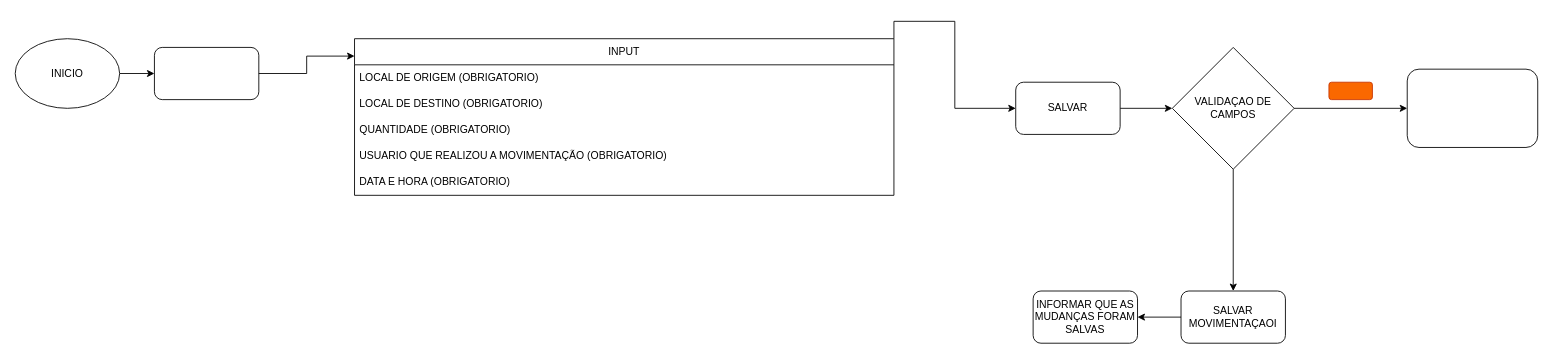
Some shapes in this 1553 by 358 pixel diagram are drawn without their labels. The box of each missing label's shape, as (x1, y1, x2, y2) in pixels:
INFORMAR ATIVO: (154, 47, 259, 100)
INFORMAR QUE DEVE SE PREENCHER TODOS OS CAMPOS: (1406, 68, 1538, 147)
NAO: (1328, 81, 1372, 100)
